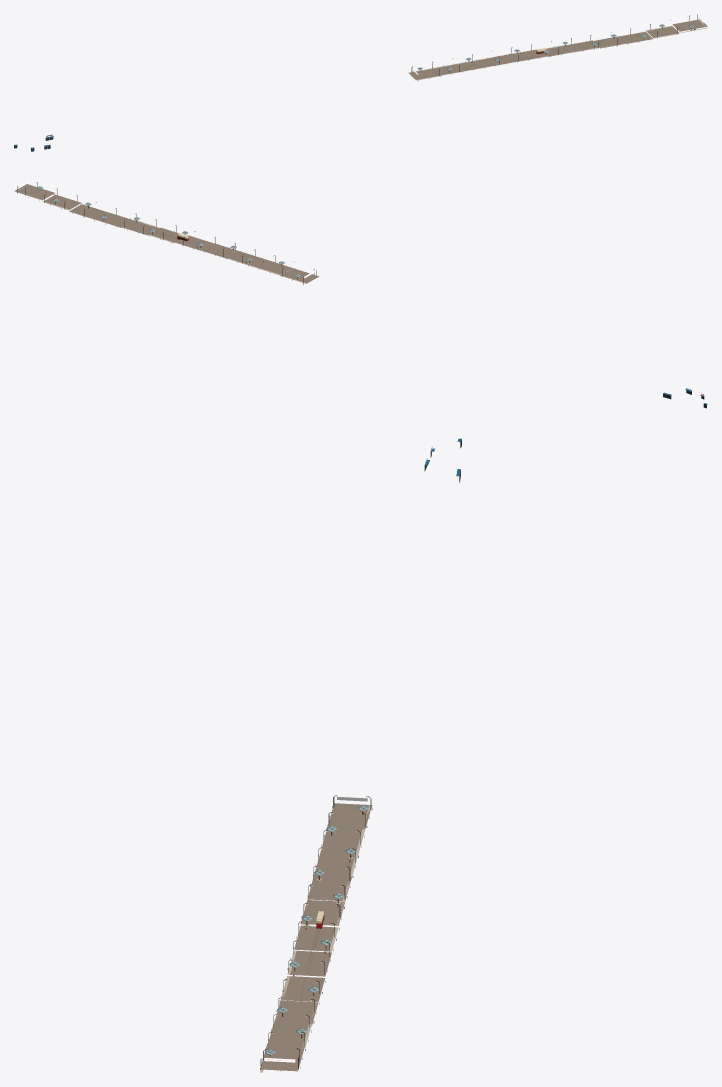
Rendered from mainstreet_fx.glb.
3 renders of one model, top to bottom at view 1: azimuth 30°, elevation 25°; view 2: azimuth 150°, elevation 25°; view 3: azimuth 270°, elevation 25°, orthographic. The views are drawn at different scales.
Parts seen in each view (by area): view 1: mainstreet_fx_lod0; view 2: mainstreet_fx_lod0; view 3: mainstreet_fx_lod0.
Boxes of the visible parts, box(x1,y1,x2,y2) form: mainstreet_fx_lod0: box(14, 14, 707, 151); mainstreet_fx_lod0: box(14, 181, 707, 408); mainstreet_fx_lod0: box(260, 438, 461, 1072).
Size of what is drawn, in the model's own units: 623 by 9.73 by 84.48.
18 materials, 1 textured.
